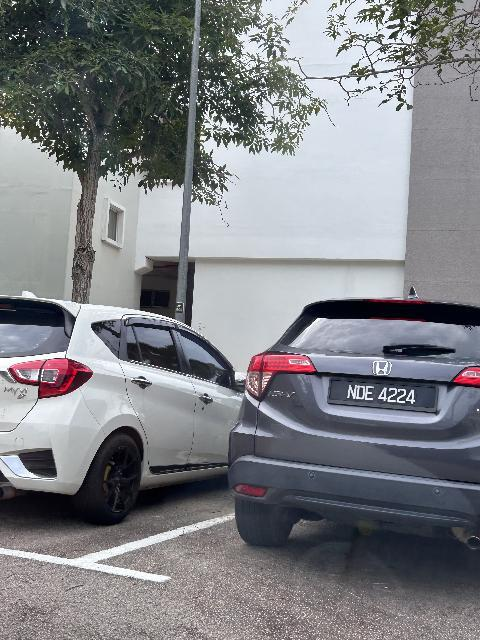License_Plate: (327, 374, 441, 420)
NDE4224: (327, 374, 441, 420)
car: (222, 290, 480, 596), (2, 292, 259, 522)
